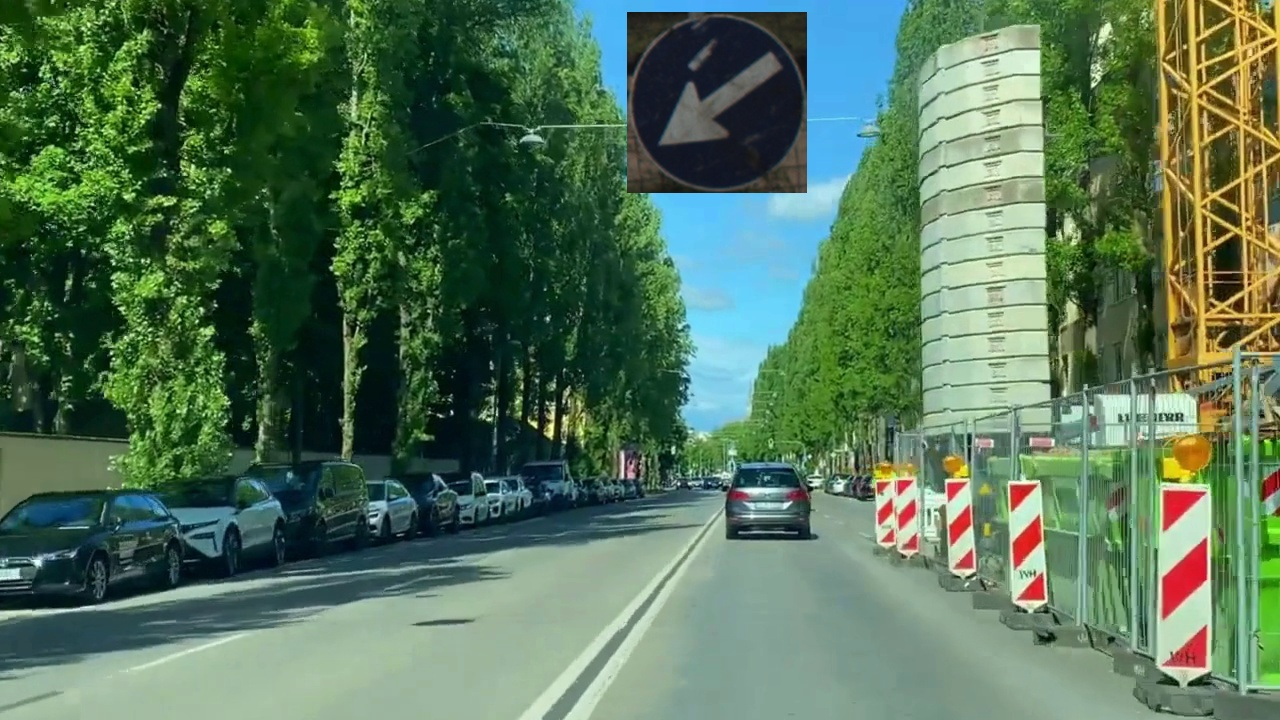Keep left: (627, 12, 807, 193)
